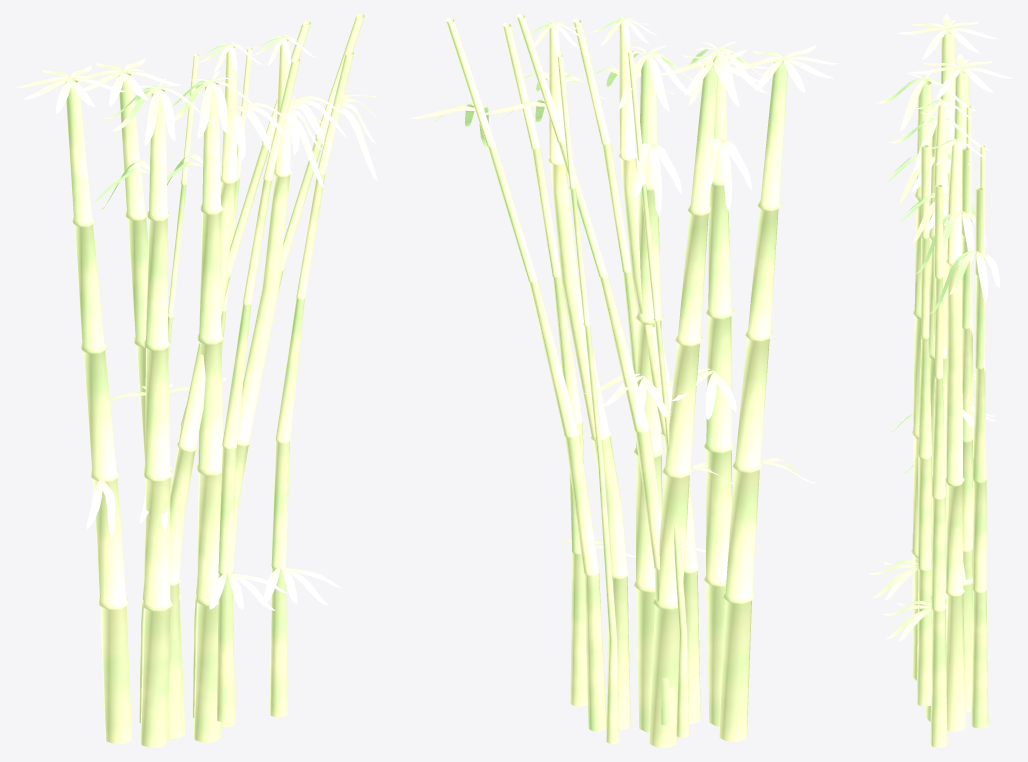
Rendered from Bamboob.glb.
3 views of the same model, side by side, from view 1: azimuth 30°, elevation 25°; view 2: azimuth 150°, elevation 25°; view 3: azimuth 270°, elevation 25° (orthographic). The views are drawn at different scales.
Parts seen in each view (by area): view 1: Circle.003; view 2: Circle.003; view 3: Circle.003.
Boxes of the visible parts, left/top/right/bottom form: Circle.003: left=15, top=14, right=378, bottom=747; Circle.003: left=410, top=14, right=838, bottom=747; Circle.003: left=869, top=14, right=1012, bottom=747.
Size of the model in its own units: 2.42 by 4.13 by 0.864.
